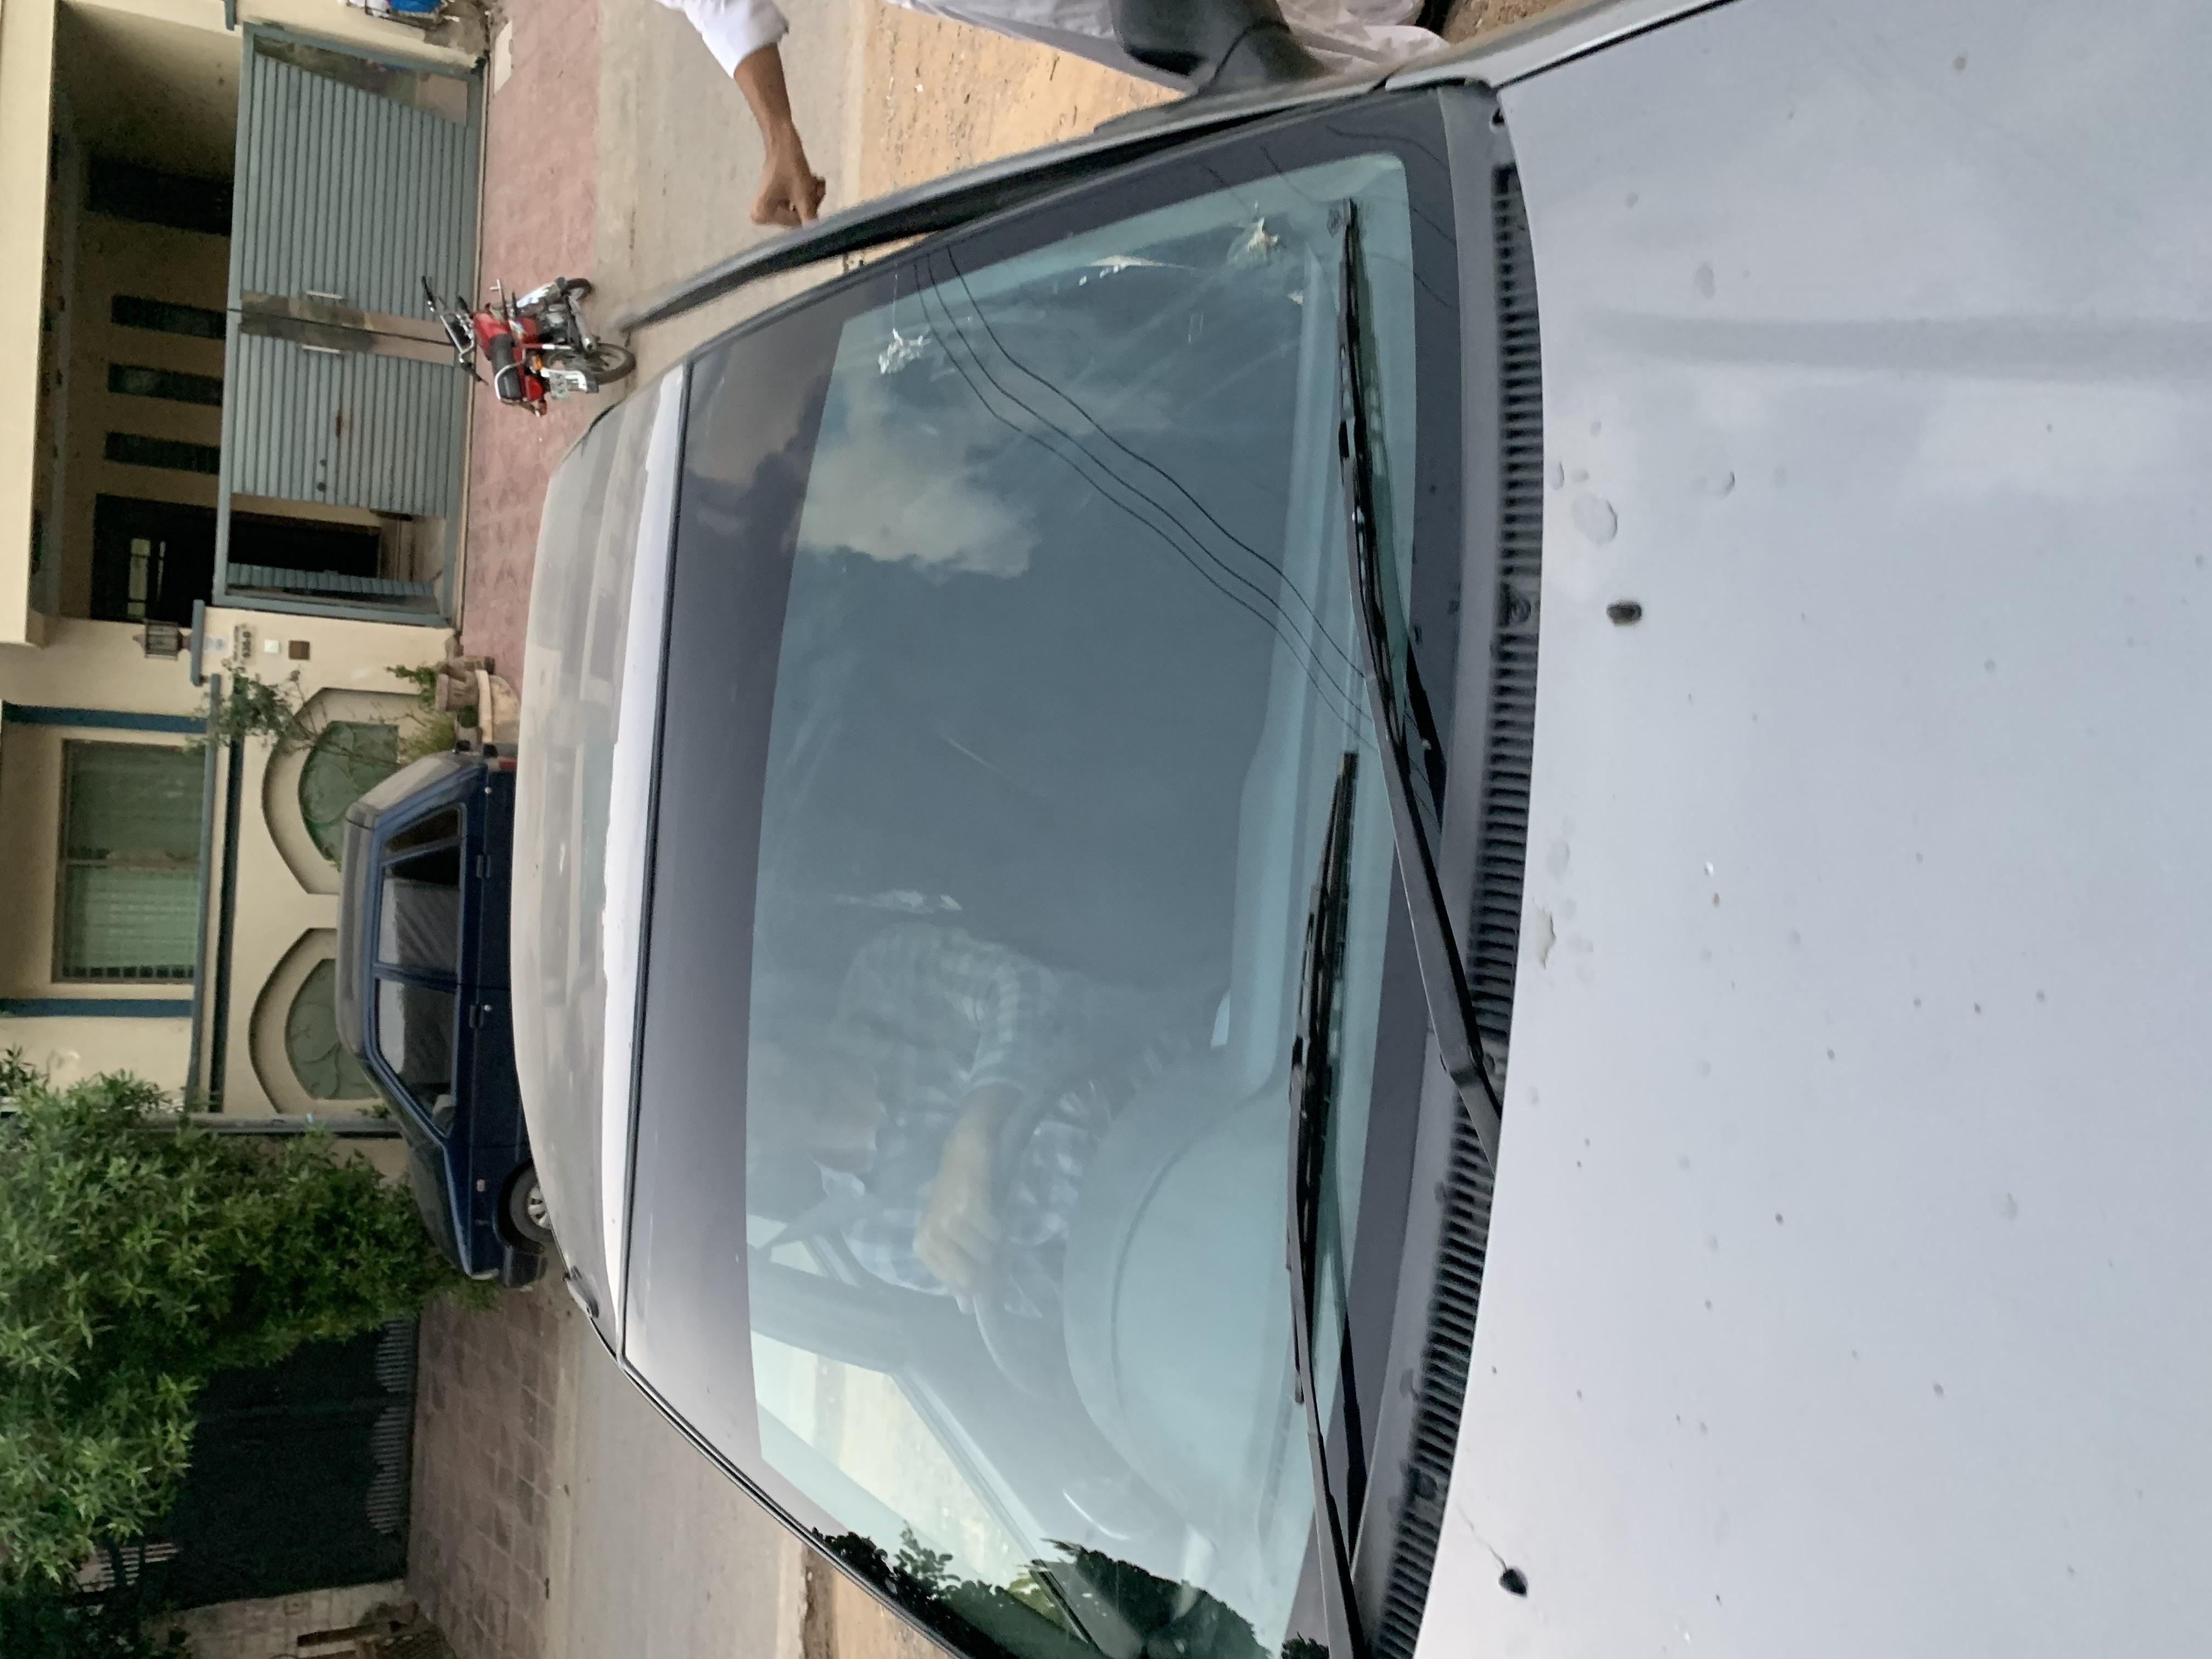windshield: (0, 448, 2107, 1164)
